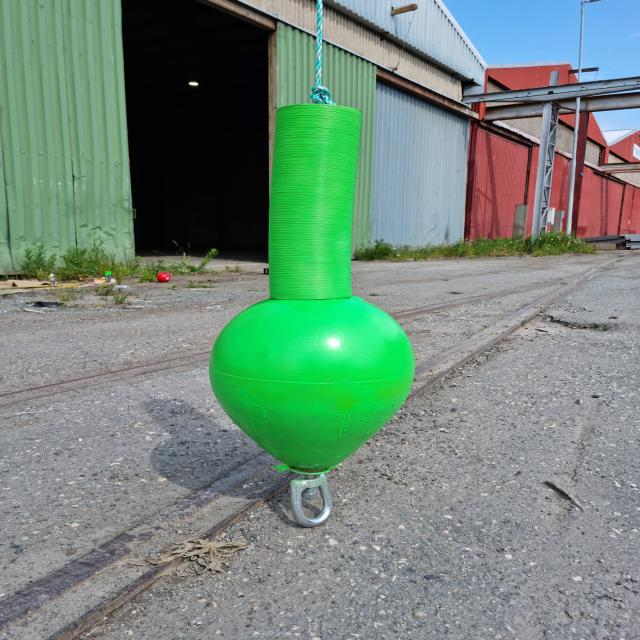green: (208, 103, 416, 474)
